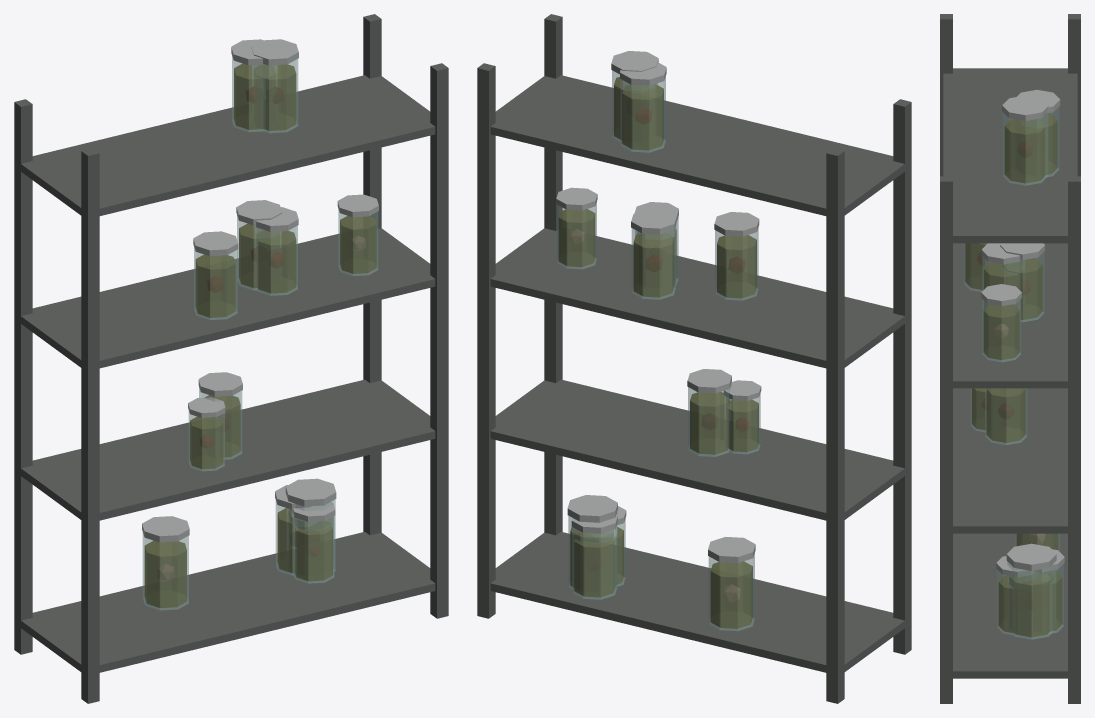
File: metal_shelf.glb
3 views of the same model, side by side, from view 1: azimuth 30°, elevation 25°; view 2: azimuth 150°, elevation 25°; view 3: azimuth 270°, elevation 25° (orthographic). The views are drawn at different scales.
Visible parts, largest first — view 1: metal_shelf; view 2: metal_shelf; view 3: metal_shelf.
Boxes of the visible parts, x1=… form: metal_shelf: x1=14, y1=14, x2=448, y2=703; metal_shelf: x1=477, y1=14, x2=911, y2=703; metal_shelf: x1=940, y1=14, x2=1080, y2=703.
Bounding box in the file's own units: 1.24 × 1.86 × 0.44.
